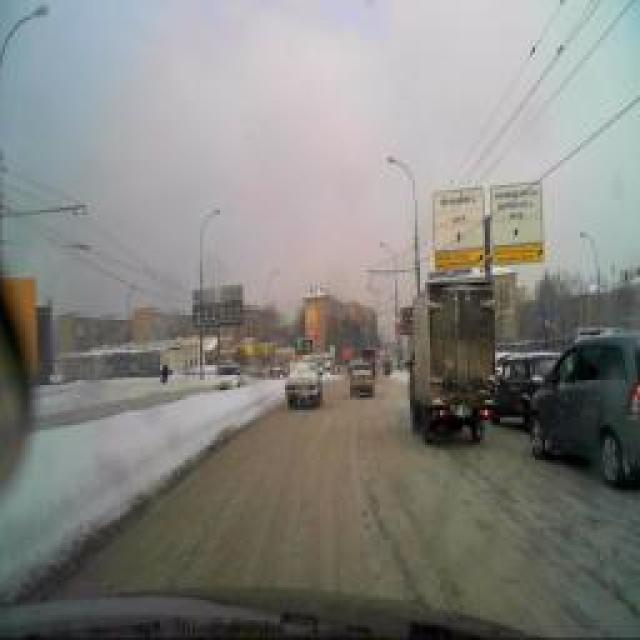sign: (541, 308, 554, 334)
